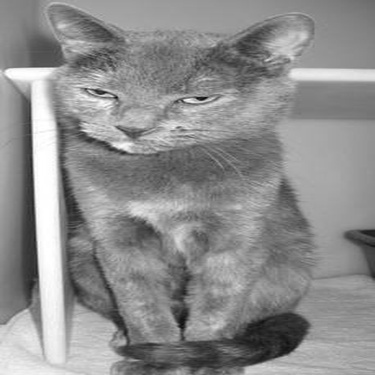cat: (18, 1, 332, 365)
